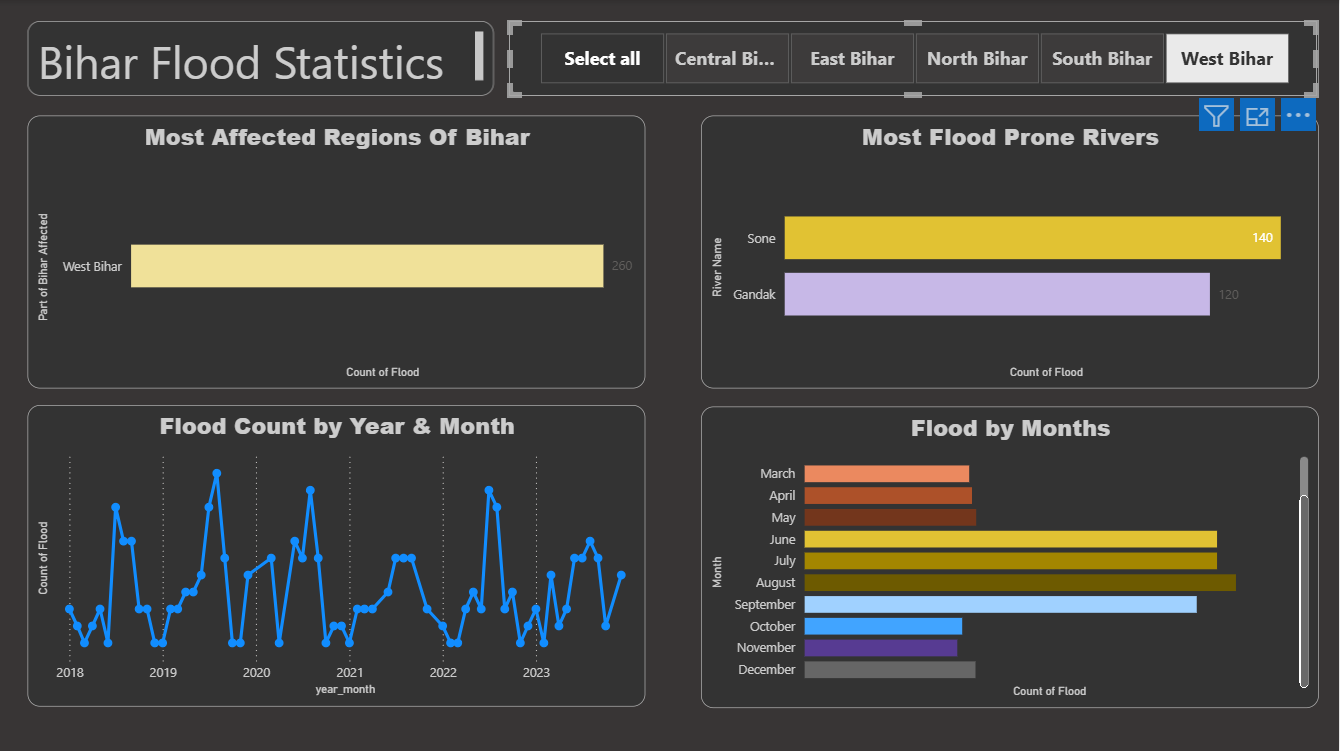

Layout of this report page (visuals, bound fields, positions):
{"tool":"powerbi","page":{"name":"Page 1","canvas":[1280,720],"ordinal":0},"visuals":[{"type":"clusteredBarChart","title":"Most Affected Regions Of Bihar","fields":{"Category":["bihar_river_flood_data_with_region_year_month.Part of Bihar Affected"],"Y":["CountNonNull(bihar_river_flood_data_with_region_year_month.Flood)"]},"box":[27,109.8,590.1,260.9],"z":0},{"type":"clusteredBarChart","title":"Most Flood Prone Rivers","fields":{"Category":["bihar_river_flood_data_with_region_year_month.River Name"],"Y":["CountNonNull(bihar_river_flood_data_with_region_year_month.Flood)"]},"box":[669.6,109.8,590.1,260.9],"z":1000},{"type":"lineChart","title":"Flood Count by Year & Month","fields":{"Y":["CountNonNull(bihar_river_flood_data_with_region_year_month.Flood)"],"Category":["bihar_river_flood_data_with_region_year_month.year_month"]},"box":[27,386.5,590.1,287.9],"z":2000},{"type":"slicer","fields":{"Values":["bihar_river_flood_data_with_region_year_month.Part of Bihar Affected"]},"box":[486.7,20.7,773,71.6],"z":3000},{"type":"textbox","box":[27,20.7,445.4,71.6],"z":4000},{"type":"clusteredBarChart","title":"Flood by Months","fields":{"Category":["year_month.year_month.Variation.Date Hierarchy.Month"],"Y":["CountNonNull(year_month.Flood)"]},"box":[669.6,388.1,590.1,287.9],"z":4001}]}

Visuals, with their boxes in screenshot pixels (x1, y1, x2, y2), scaled from the page's 1280x720 canvas onto the 1340x751 screenshot:
"Most Affected Regions Of Bihar" clusteredBarChart: 28,115,646,387
"Most Flood Prone Rivers" clusteredBarChart: 701,115,1319,387
"Flood Count by Year & Month" lineChart: 28,403,646,703
slicer - bihar_river_flood_data_with_region_year_month.Part of Bihar Affected: 510,22,1319,96
textbox: 28,22,495,96
"Flood by Months" clusteredBarChart: 701,405,1319,705
